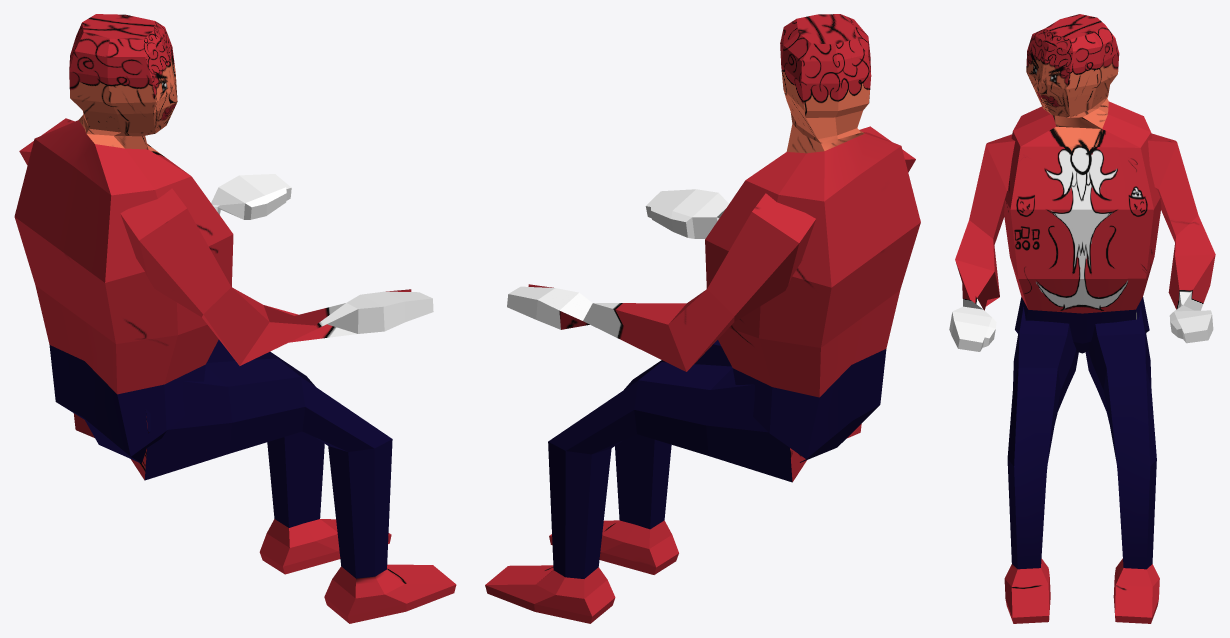
File: AssisRegardeADroite.fbx
The picture shows the model from 3 angles, left to right: view 1: azimuth 30°, elevation 25°; view 2: azimuth 150°, elevation 25°; view 3: azimuth 270°, elevation 25°; orthographic projection. The views are drawn at different scales.
Parts seen in each view (by area): view 1: Cube.001; view 2: Cube.001; view 3: Cube.001.
Part boxes in pixels (<box>): Cube.001: <box>14,14,456,623</box>; Cube.001: <box>485,14,920,623</box>; Cube.001: <box>949,14,1215,623</box>.
Size of the model in its own units: 195 by 326 by 161.
